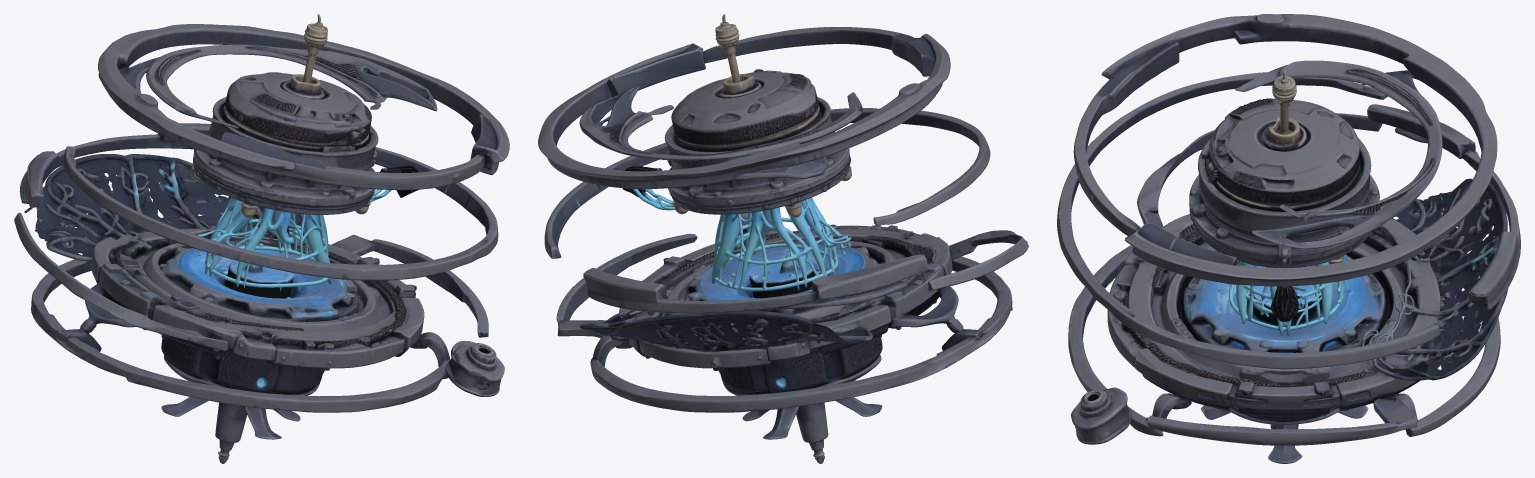
The model's file is arc-reactor.glb.
The picture shows the model from 3 angles, left to right: view 1: azimuth 30°, elevation 25°; view 2: azimuth 150°, elevation 25°; view 3: azimuth 270°, elevation 25°; orthographic projection. The views are drawn at different scales.
Visible parts, largest first — view 1: tripo_node_e86a4d23-a02b-49c6-9a45-33cedfc0a25c; view 2: tripo_node_e86a4d23-a02b-49c6-9a45-33cedfc0a25c; view 3: tripo_node_e86a4d23-a02b-49c6-9a45-33cedfc0a25c.
Part boxes in pixels (x1,y1,x2,y2): tripo_node_e86a4d23-a02b-49c6-9a45-33cedfc0a25c: [14, 14, 509, 463]; tripo_node_e86a4d23-a02b-49c6-9a45-33cedfc0a25c: [538, 14, 1028, 463]; tripo_node_e86a4d23-a02b-49c6-9a45-33cedfc0a25c: [1057, 14, 1520, 463].
Size of the model in its own units: 0.9802 by 0.915 by 0.8834.
Materials: 1 (1 with a texture image).
